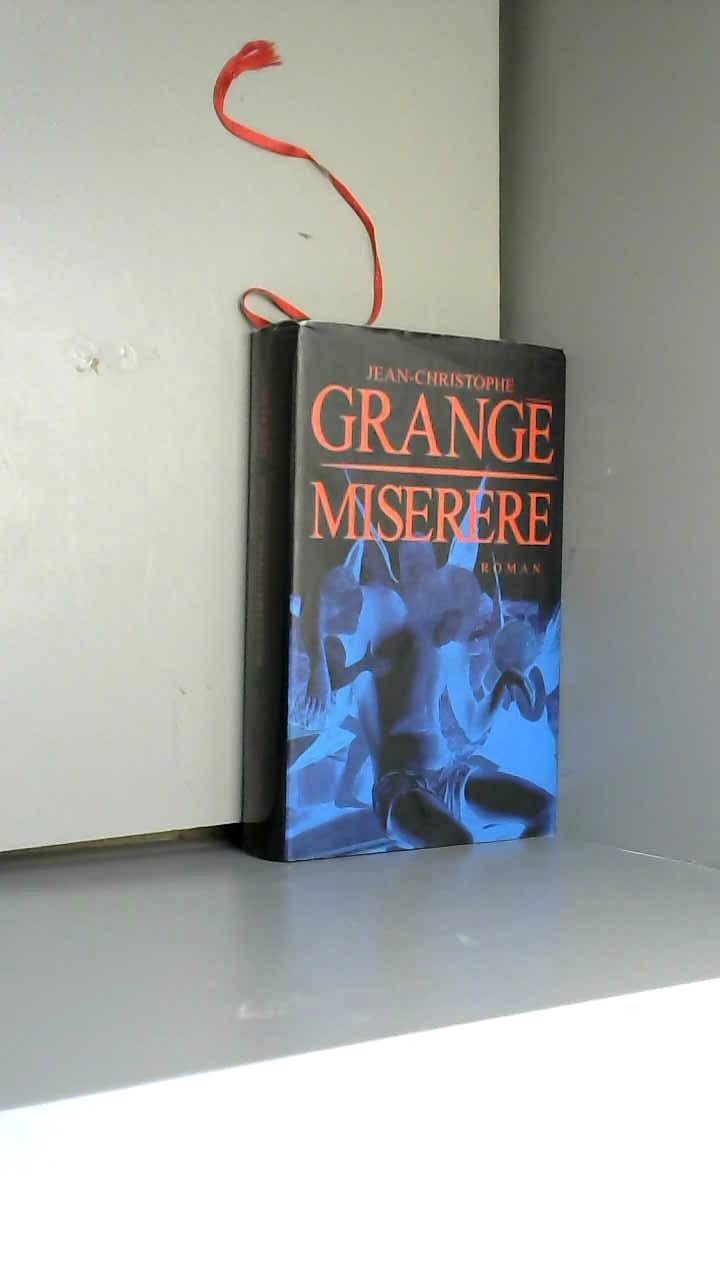book: (204, 272, 607, 906)
